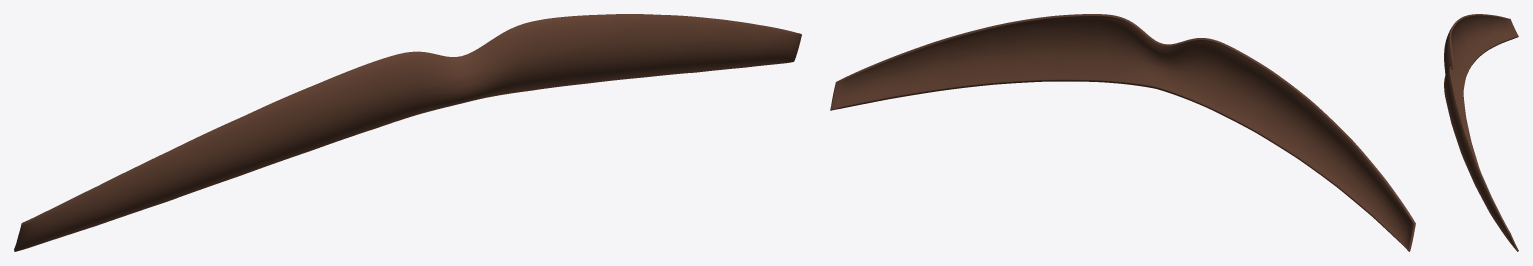
Rendered from Masculine-groom-mustache.glb.
3 views of the same model, side by side, from view 1: azimuth 30°, elevation 25°; view 2: azimuth 150°, elevation 25°; view 3: azimuth 270°, elevation 25° (orthographic). The views are drawn at different scales.
Visible parts, largest first — view 1: Groom / shared mustache185; view 2: Groom / shared mustache185; view 3: Groom / shared mustache185.
Part boxes in pixels (x1=…): Groom / shared mustache185: x1=14, y1=14, x2=801, y2=251; Groom / shared mustache185: x1=830, y1=14, x2=1415, y2=251; Groom / shared mustache185: x1=1444, y1=14, x2=1518, y2=251.
Bounding box in the file's own units: 0.3012 × 0.06 × 0.0443.
